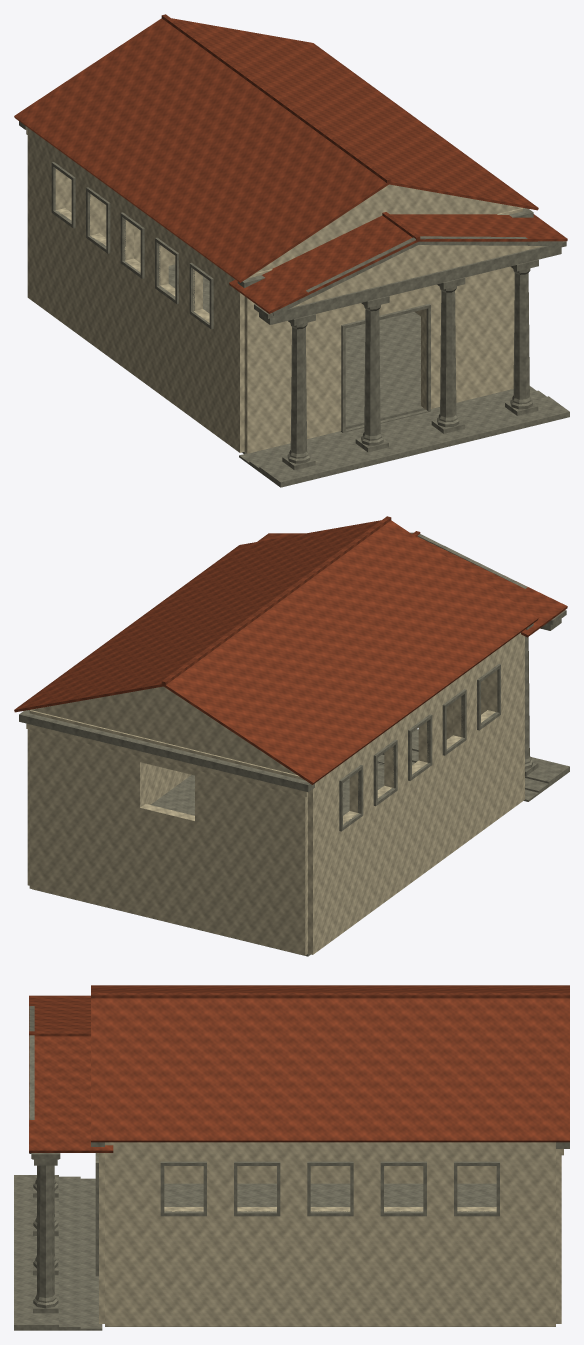
File: basilica_lod2.glb
The picture shows the model from 3 angles, top to bottom: view 1: azimuth 30°, elevation 25°; view 2: azimuth 150°, elevation 25°; view 3: azimuth 270°, elevation 25°; orthographic projection. The views are drawn at different scales.
Parts seen in each view (by area): view 1: basilica_lod2; view 2: basilica_lod2; view 3: basilica_lod2.
Boxes of the visible parts, x1,y1,x2,y2 form: basilica_lod2: (14, 14, 569, 487); basilica_lod2: (14, 516, 569, 956); basilica_lod2: (14, 985, 569, 1330).
Size of the model in its own units: 13.04 by 10.24 by 19.73.
3 materials, 3 textured.
